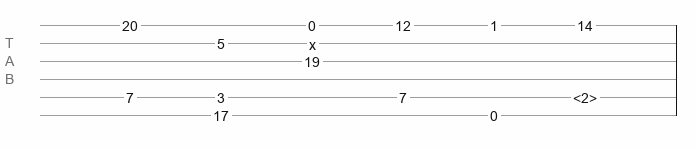0: (308, 18, 316, 28), (490, 108, 498, 118)
1: (490, 18, 498, 28)
12: (395, 18, 411, 28)
14: (577, 18, 593, 28)
17: (213, 108, 229, 118)
19: (304, 54, 320, 64)
20: (122, 18, 138, 28)
3: (217, 90, 225, 100)
5: (217, 36, 225, 46)
7: (126, 90, 134, 100), (399, 90, 407, 100)
harmonic: (573, 90, 597, 100)
x: (309, 37, 316, 45)
